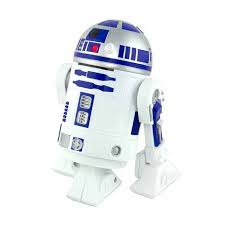r2d2: (51, 19, 181, 207)
